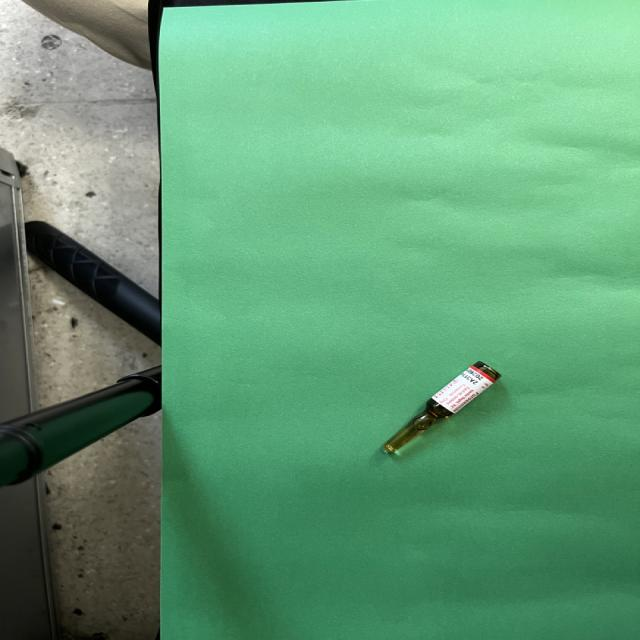Ampoules: (384, 361, 502, 452)
